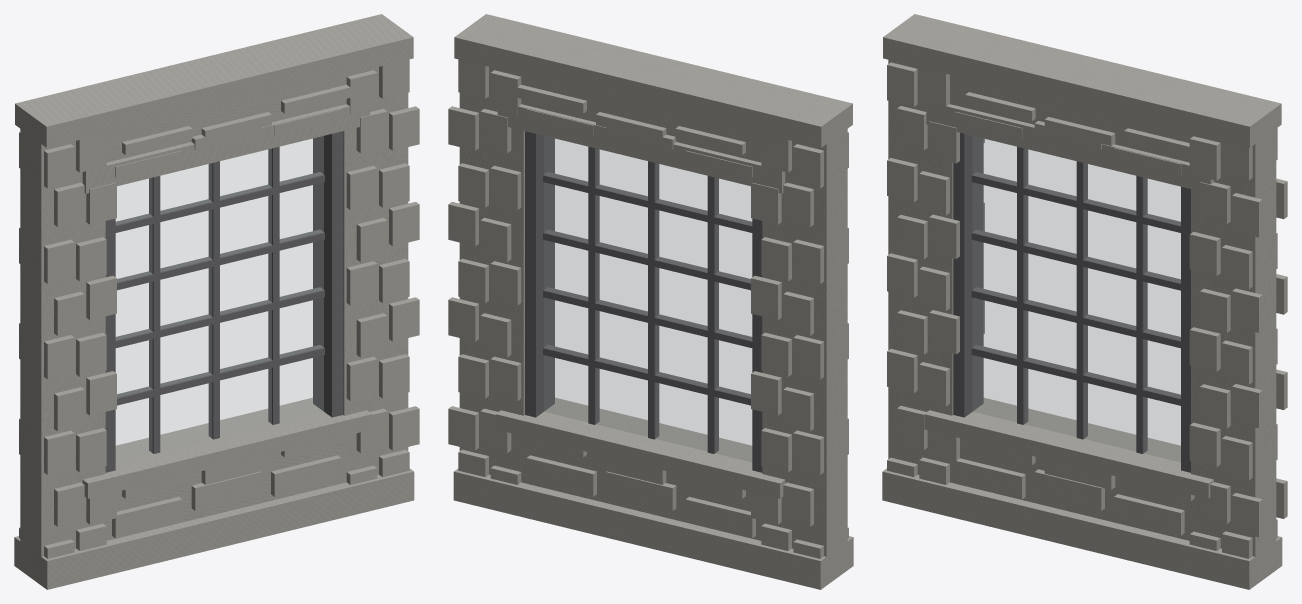
Rendered from window-stillhouse.glb.
3 views of the same model, side by side, from view 1: azimuth 30°, elevation 25°; view 2: azimuth 150°, elevation 25°; view 3: azimuth 330°, elevation 25° (orthographic).
Parts seen in each view (by area): view 1: stillhouse-window-bay-stone, stillhouse-window-bay-glass, stillhouse-window-bay-iron; view 2: stillhouse-window-bay-stone, stillhouse-window-bay-glass, stillhouse-window-bay-iron; view 3: stillhouse-window-bay-stone, stillhouse-window-bay-glass, stillhouse-window-bay-iron.
Boxes of the visible parts, x1=… form: stillhouse-window-bay-stone: x1=14, y1=14, x2=419, y2=589; stillhouse-window-bay-glass: x1=116, y1=136, x2=323, y2=461; stillhouse-window-bay-iron: x1=105, y1=131, x2=342, y2=472; stillhouse-window-bay-stone: x1=448, y1=14, x2=853, y2=589; stillhouse-window-bay-glass: x1=544, y1=136, x2=751, y2=461; stillhouse-window-bay-iron: x1=525, y1=131, x2=762, y2=472; stillhouse-window-bay-stone: x1=882, y1=14, x2=1287, y2=589; stillhouse-window-bay-glass: x1=973, y1=136, x2=1180, y2=461; stillhouse-window-bay-iron: x1=953, y1=133, x2=1190, y2=472.
Bounding box in the file's own units: 4.08 × 4.82 × 0.6202.
3 materials, 1 textured.
